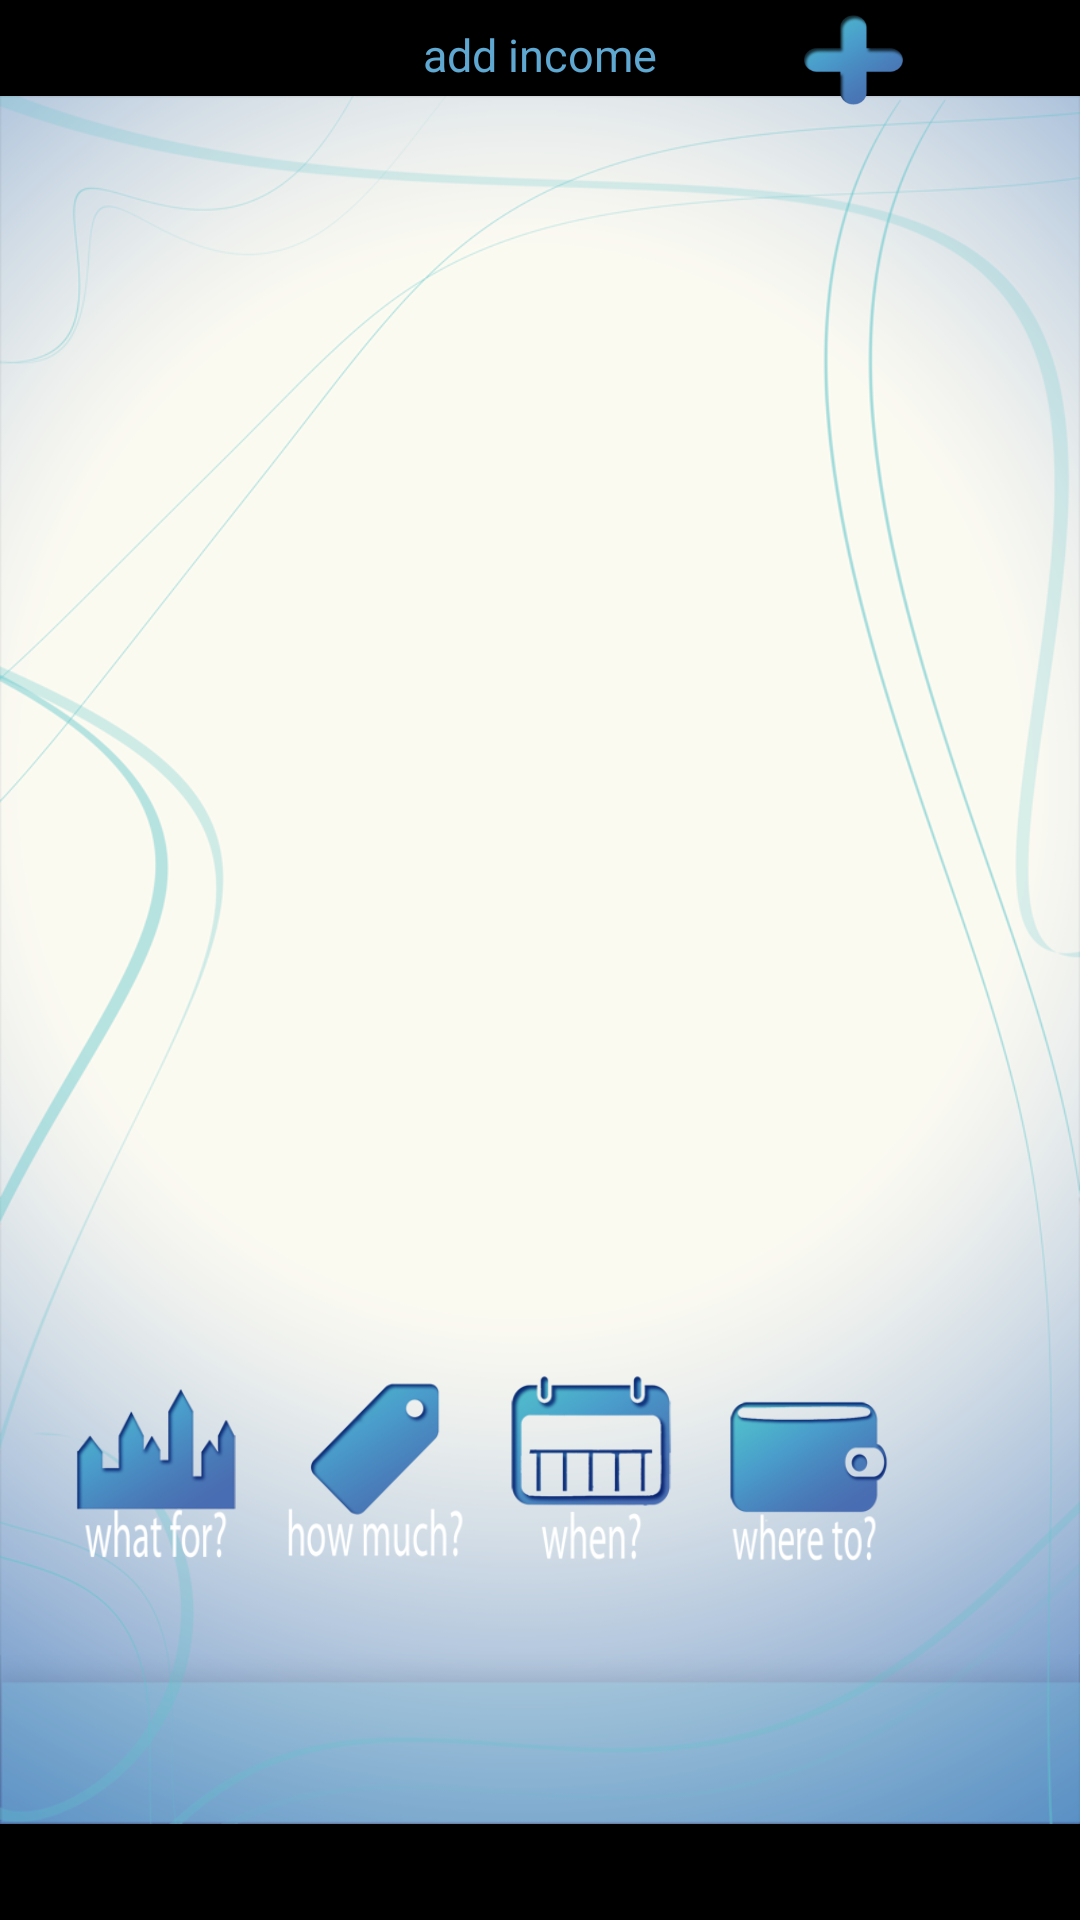

Icons on this 1080w x 1920h Android screen, each with its box as bbox=[x1, y1, x2, y2]:
plusbuttoneffect: bbox=[804, 16, 903, 105]
